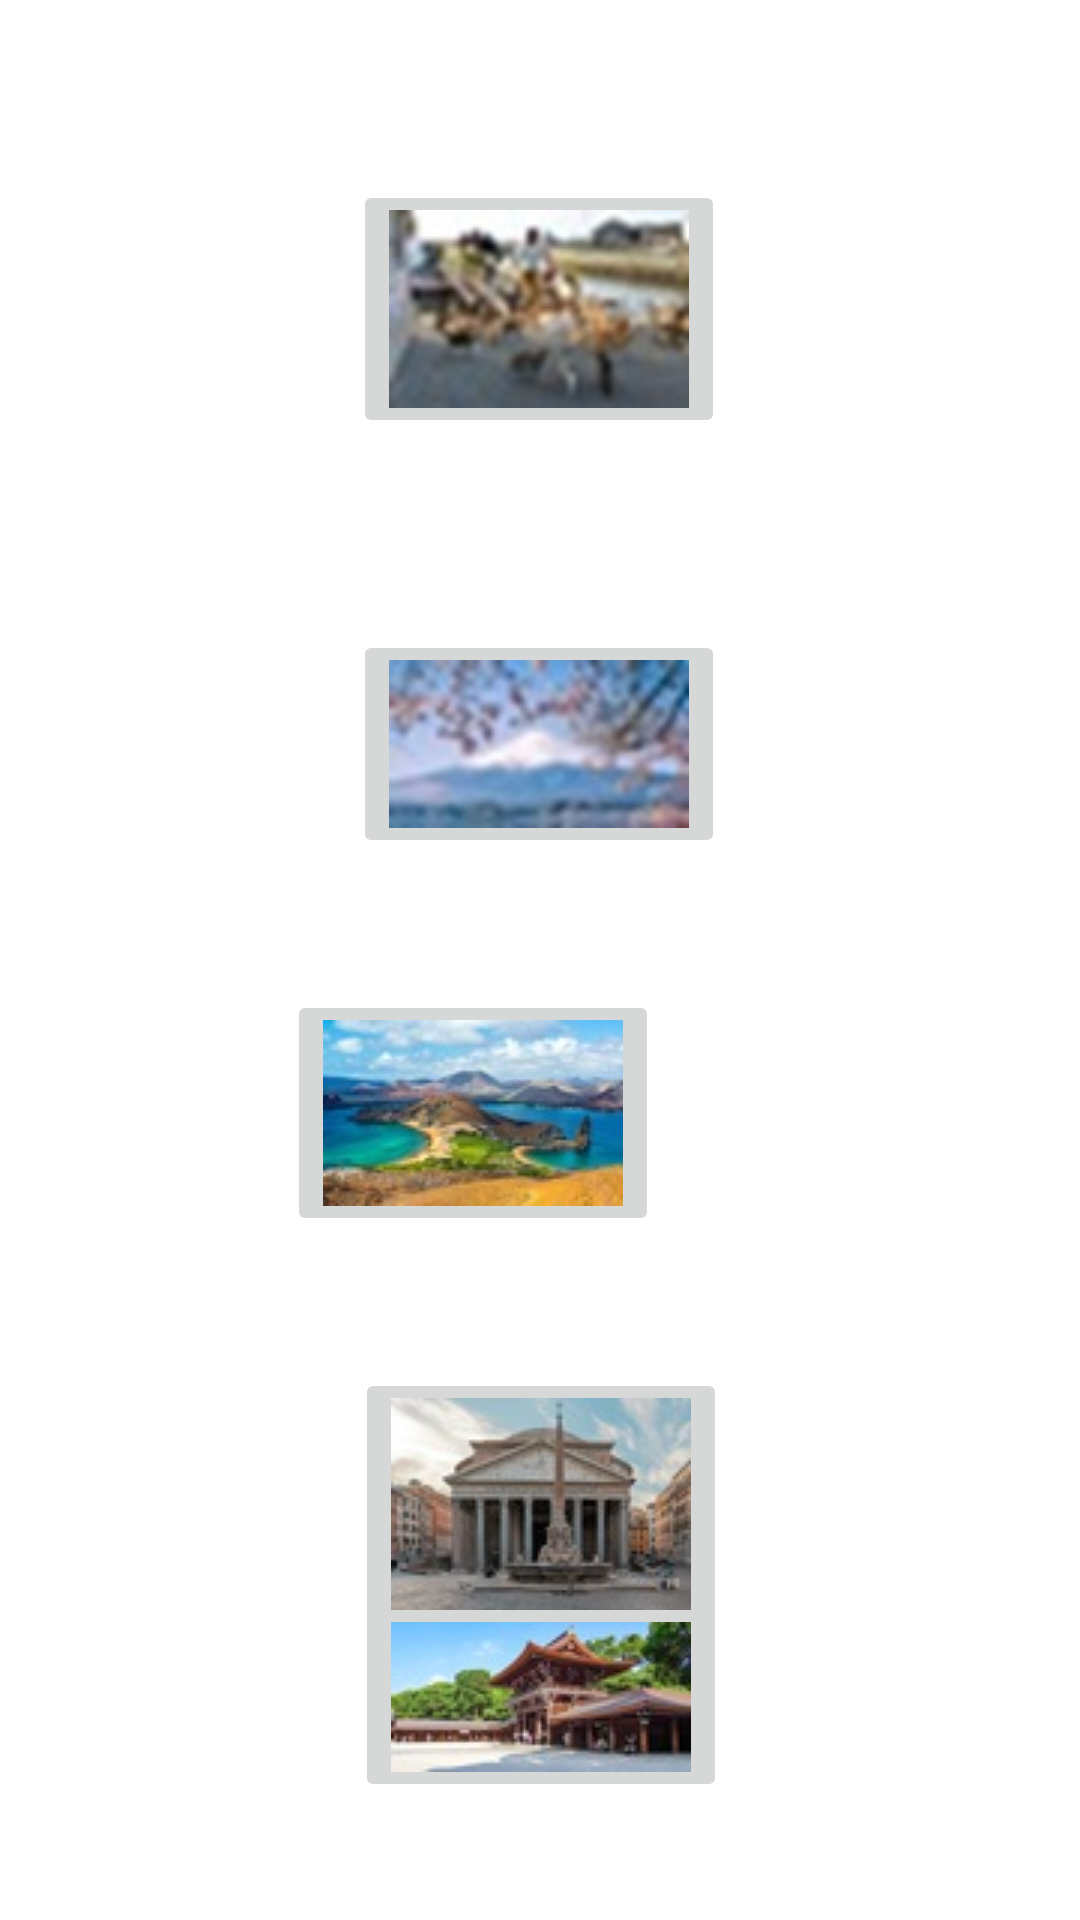

Named icons in this screenshot (1080w x 1920h) and their centers, [x,y]:
cat: [539,309]
fuji: [539,744]
galapagos: [473,1113]
pantheon: [541,1516]
shrine: [541,1688]
